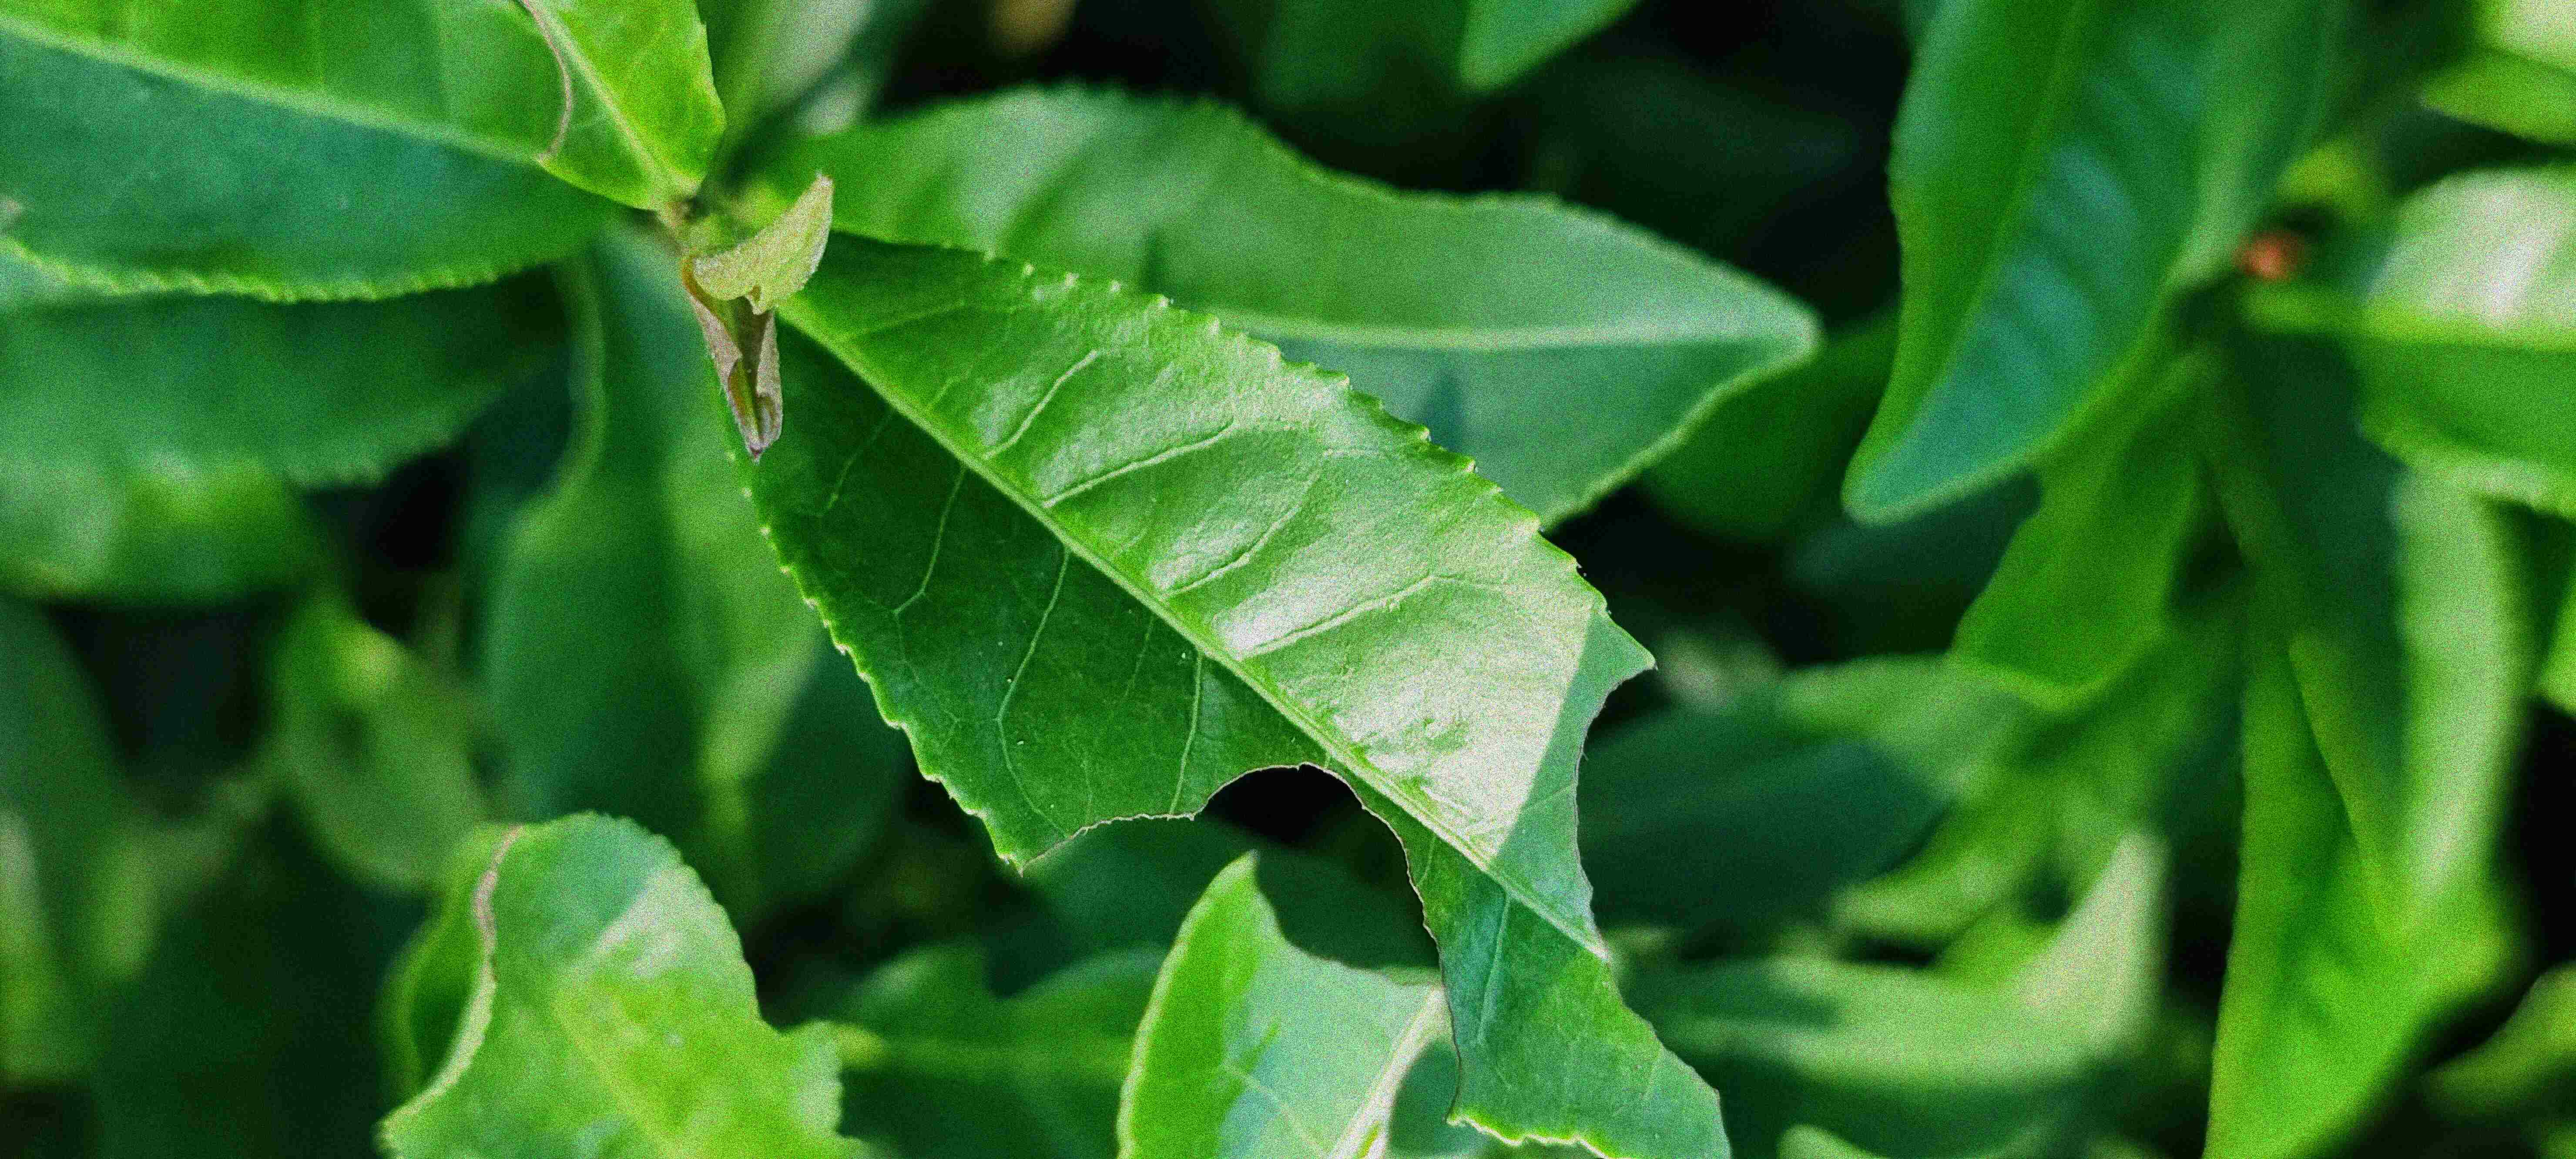chihuo_high: (700, 220, 1735, 1159)
chihuo_low: (499, 0, 723, 210)
healthy: (1838, 0, 2213, 520)
